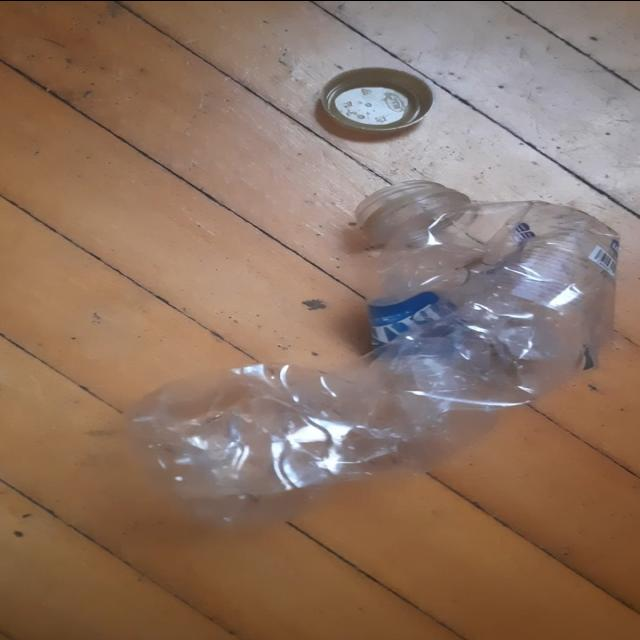Plastic: (123, 181, 620, 518)
